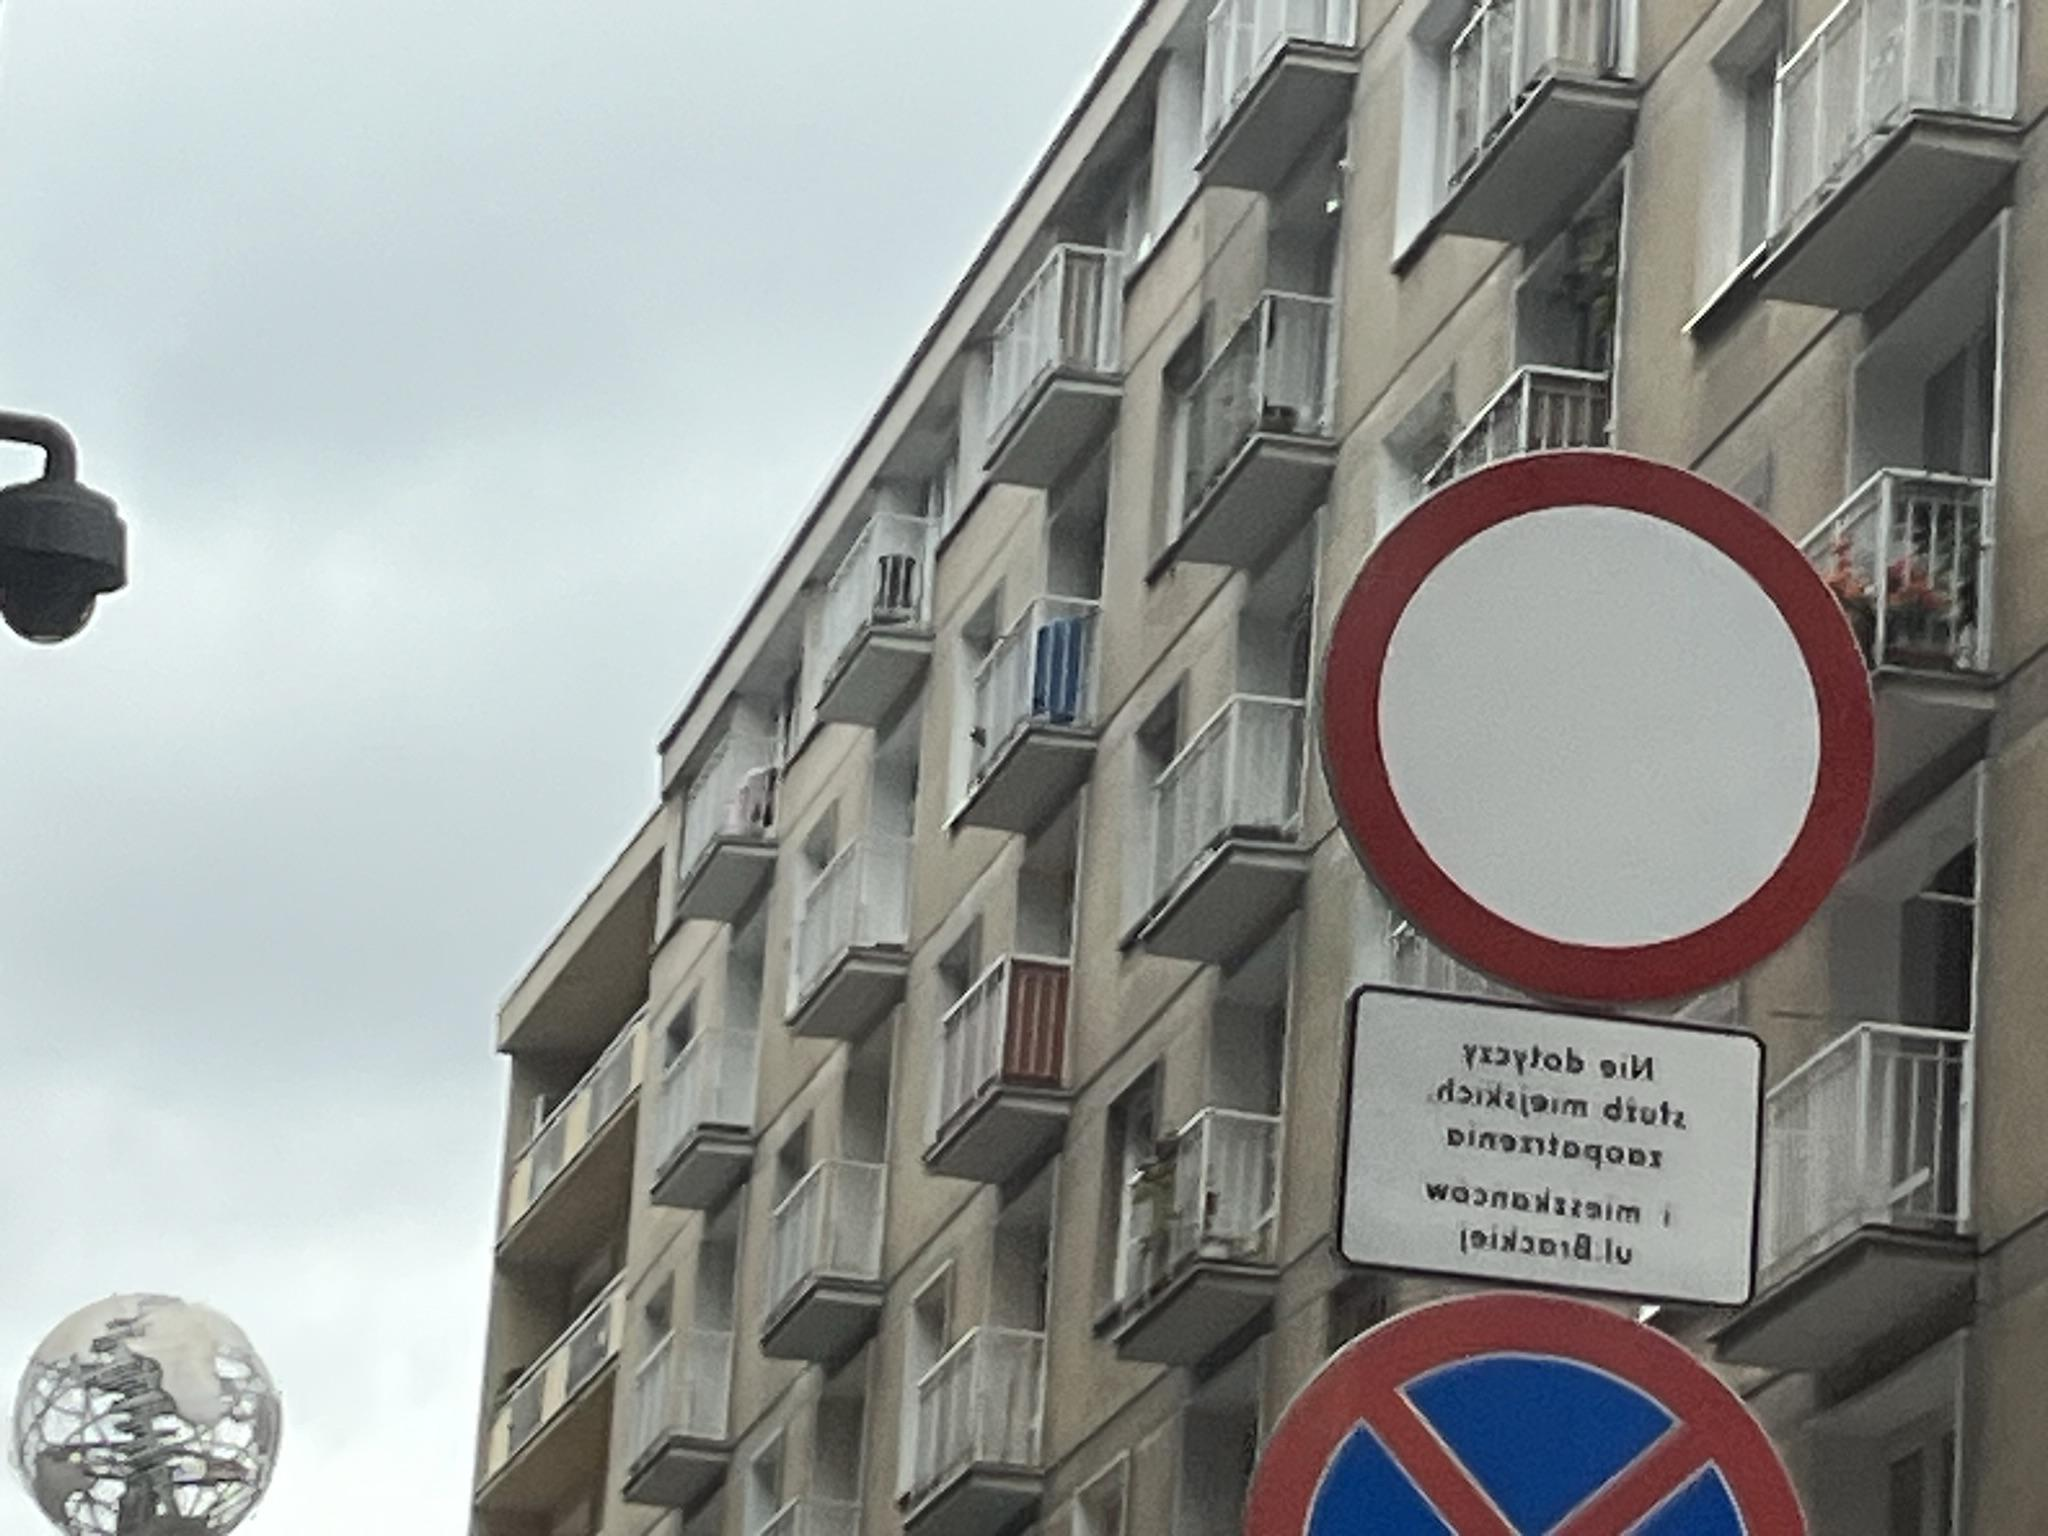other: (1326, 986, 1771, 1309)
prohibitory: (1317, 444, 1887, 1012), (1238, 1292, 1814, 1536)
